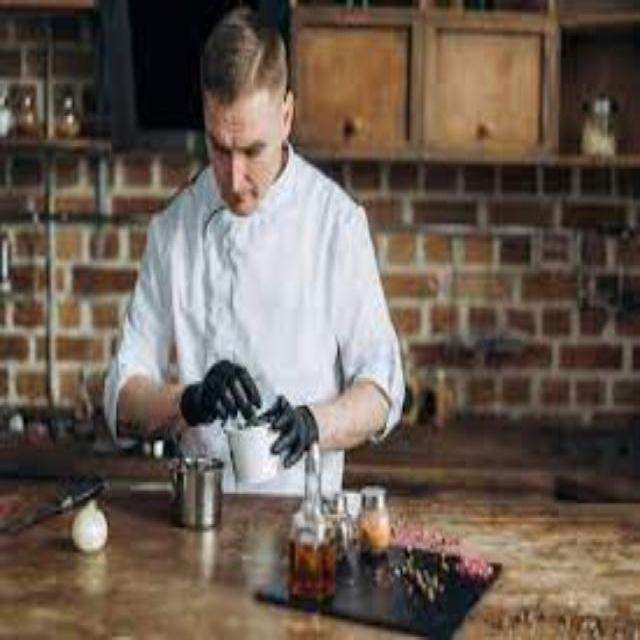gloved_hand: (184, 355, 265, 420), (267, 389, 320, 461)
